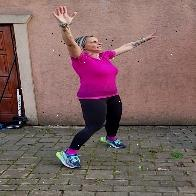jumping_jacks: (43, 4, 162, 174)
